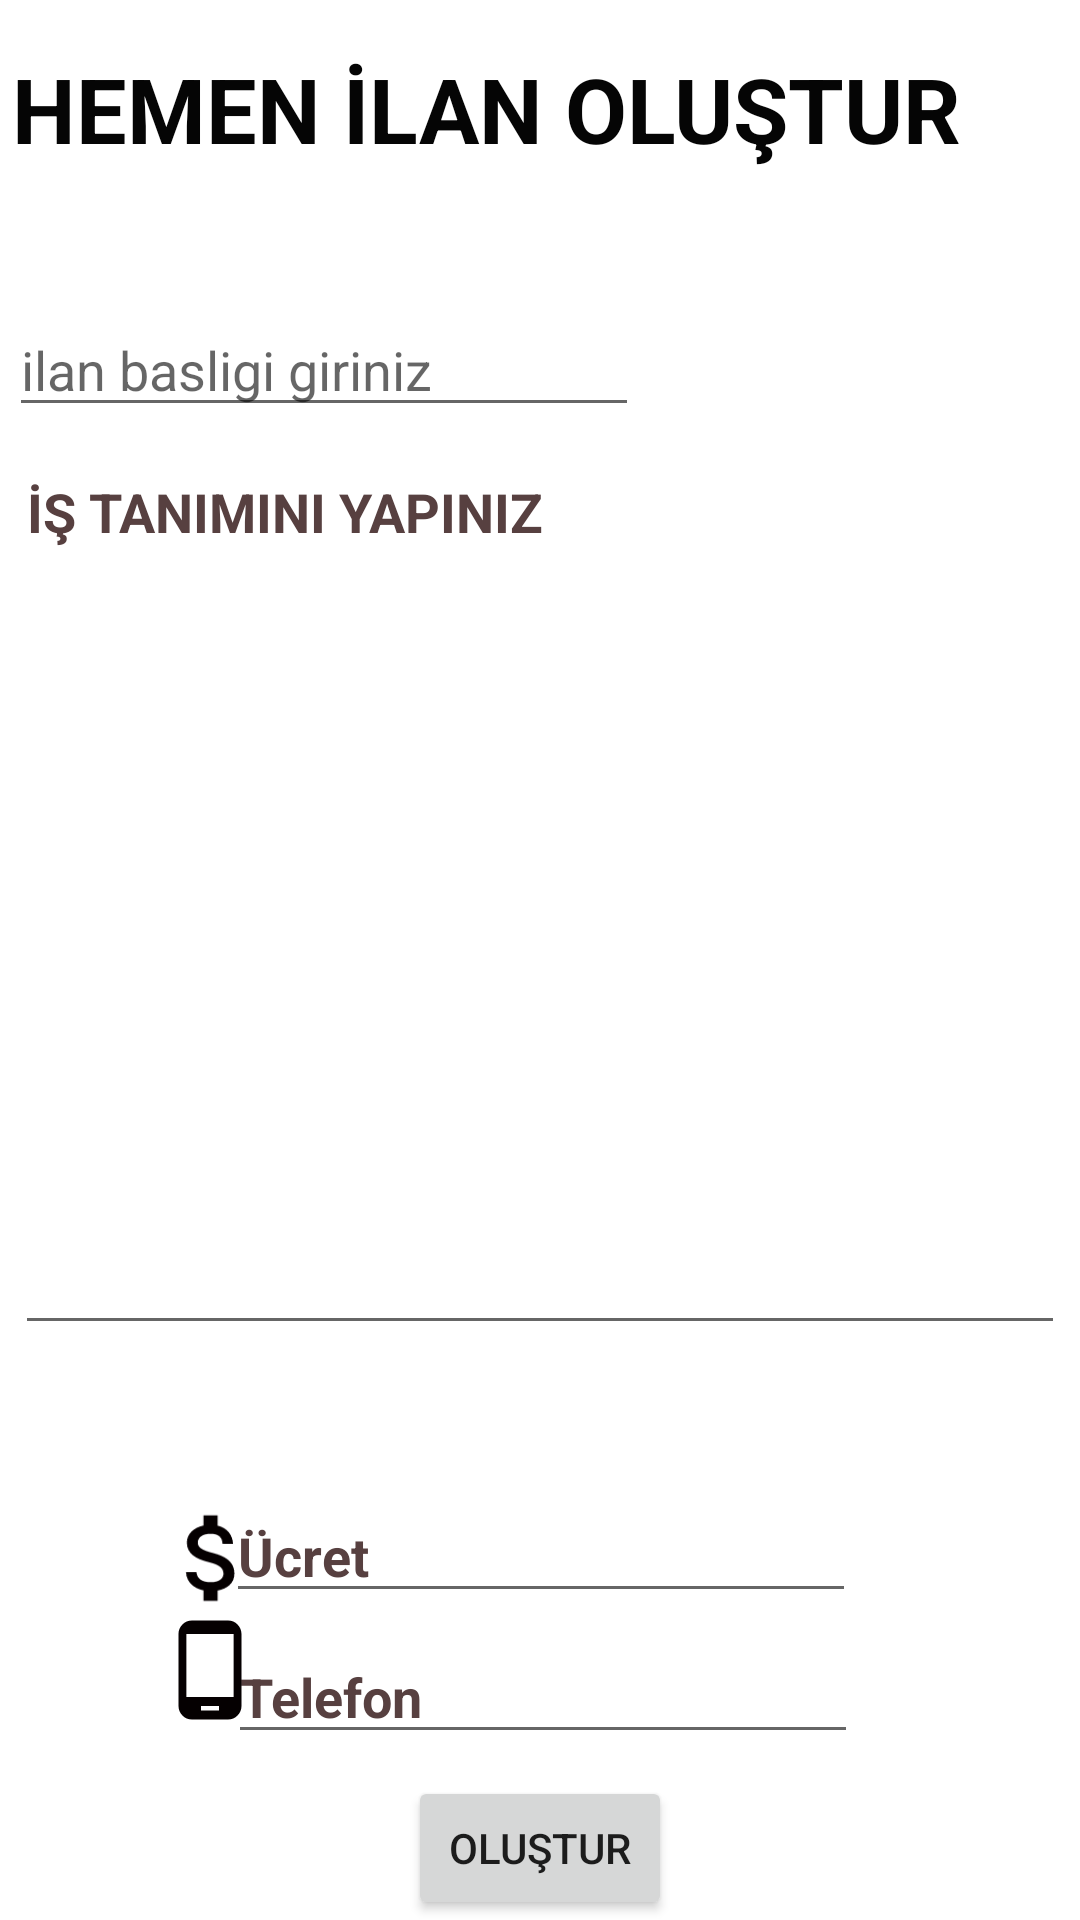

Screen size 1080x1920. Icon name, then its center in pixels as point (x, y):
attach money: point (228, 1558)
